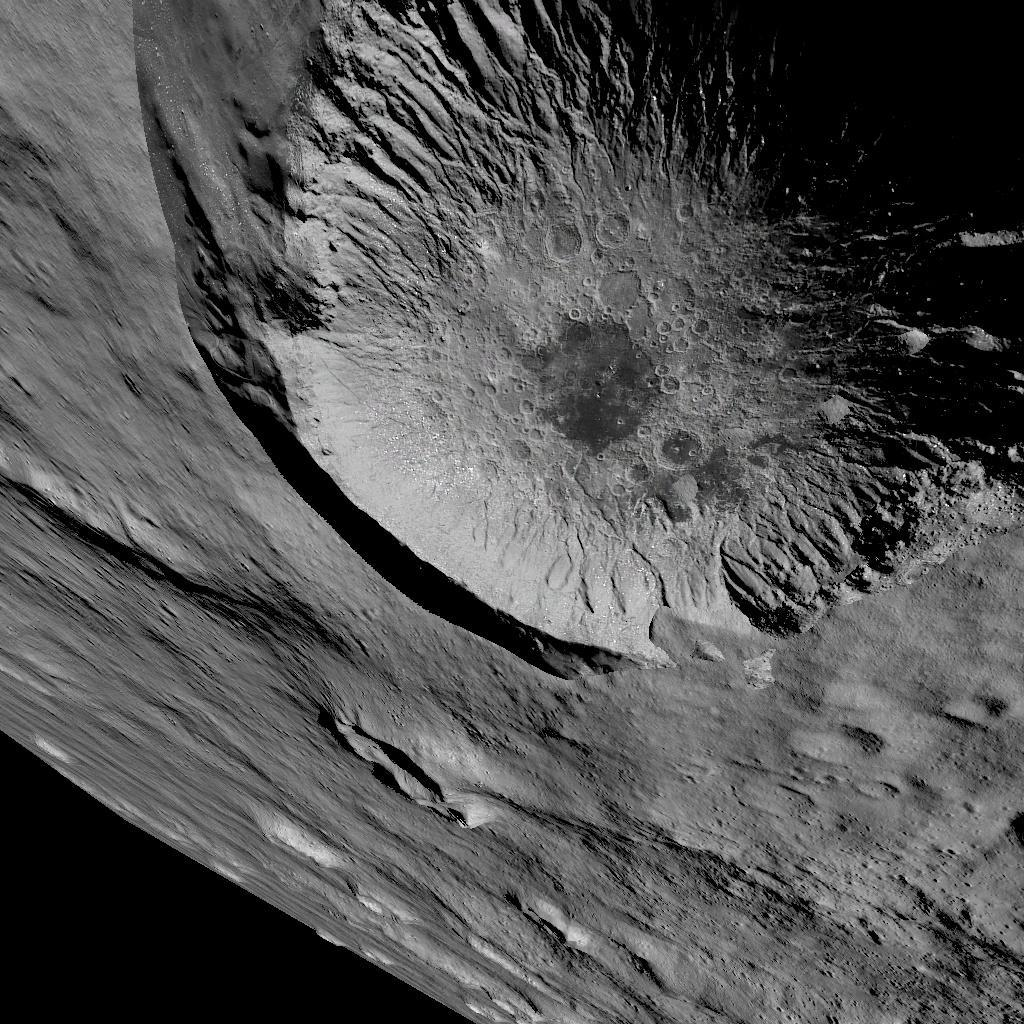Crater: (105, 0, 1024, 679), (308, 694, 472, 830)
Plan surface: (509, 698, 966, 1024)
